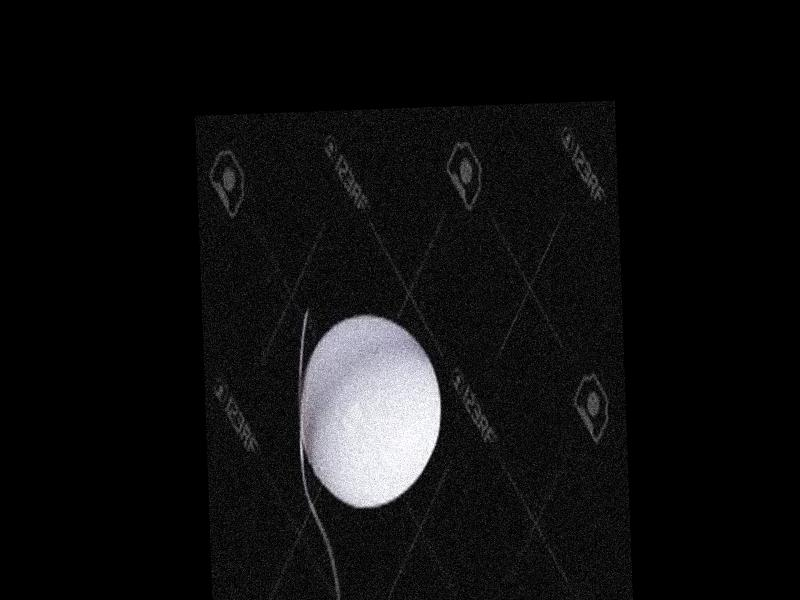Eggs: (296, 312, 442, 510)
